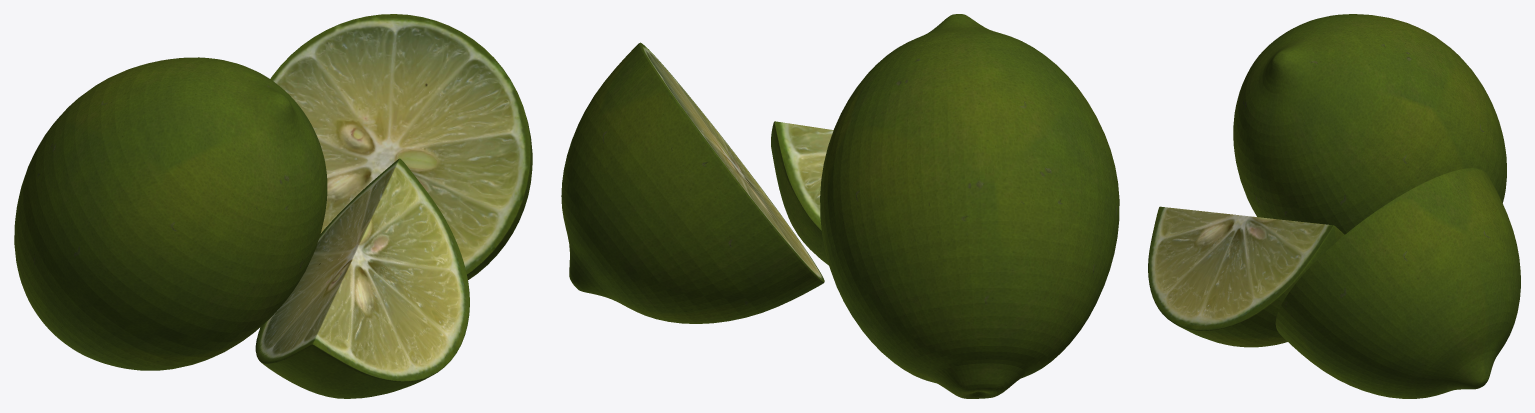
Rendered from lime-dark-green.glb.
The picture shows the model from 3 angles, left to right: view 1: azimuth 30°, elevation 25°; view 2: azimuth 150°, elevation 25°; view 3: azimuth 270°, elevation 25°; orthographic projection. The views are drawn at different scales.
Bounding box in the file's own units: 2.5 × 1.47 × 1.86.
1 material, 1 textured.
